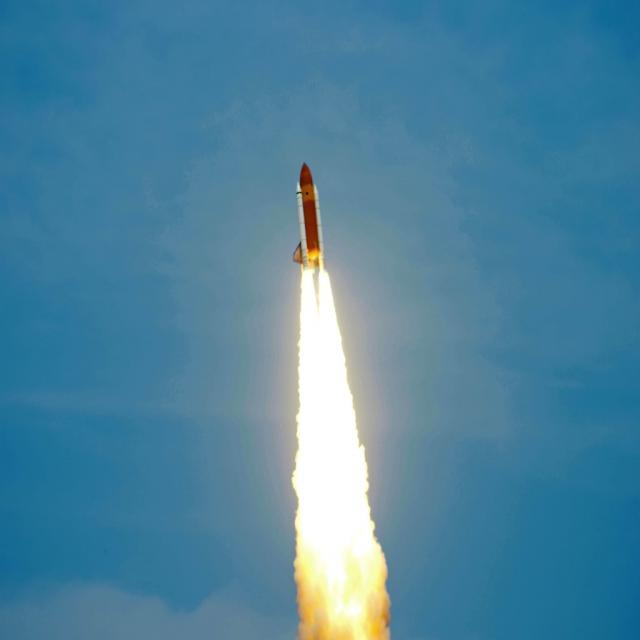missile: (297, 162, 323, 270)
